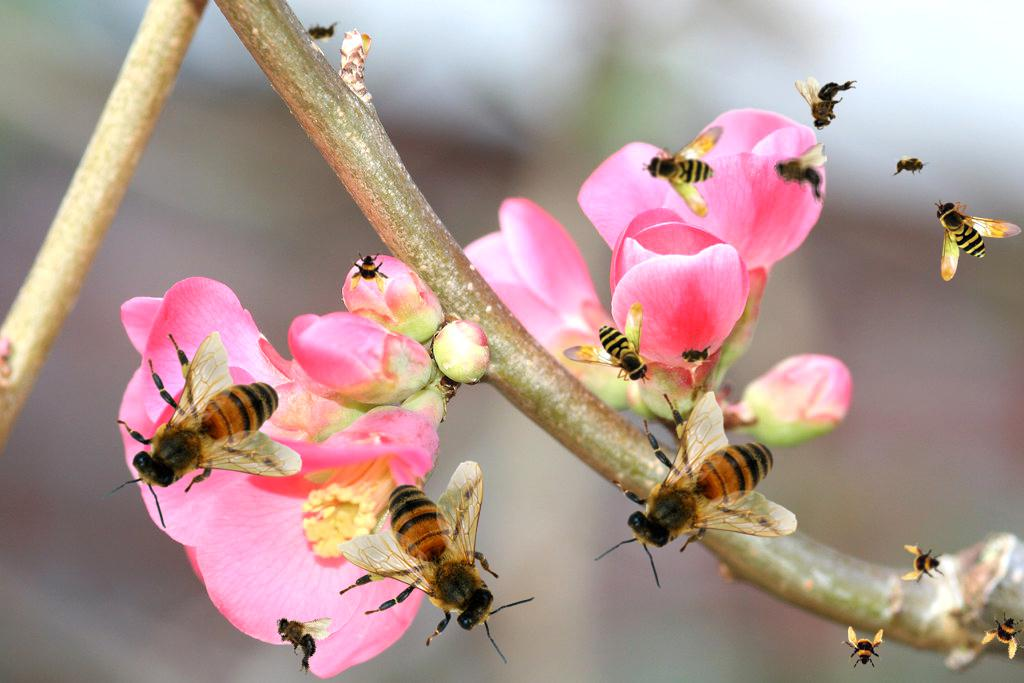Bee: (99, 331, 303, 530), (337, 460, 536, 664), (594, 391, 798, 590), (638, 104, 760, 226), (934, 199, 1022, 281), (562, 302, 650, 384), (261, 598, 336, 678), (795, 77, 857, 130), (774, 143, 827, 205), (978, 605, 1024, 663), (901, 543, 945, 587), (841, 626, 885, 670), (348, 250, 392, 294), (301, 21, 341, 43), (890, 155, 930, 177), (675, 344, 715, 366)
